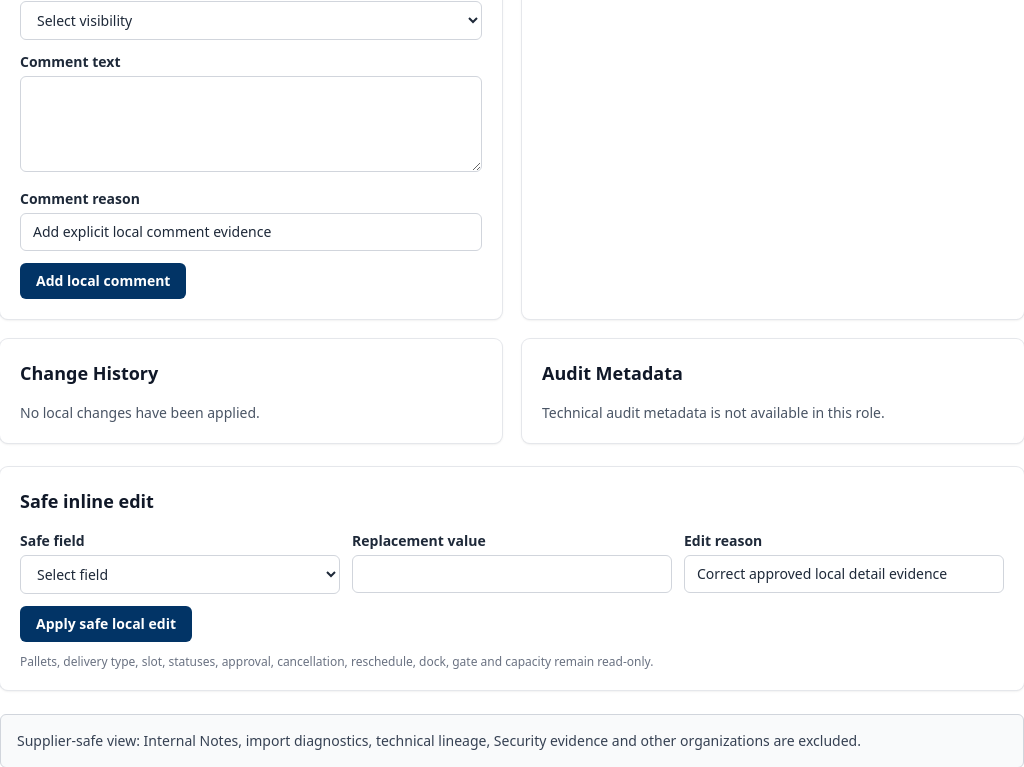
Test: AppointmentDetailsPage › allows Supplier-safe vehicle correction on its own non-weekly record
(page scrolled)
Select "Tractor registration" in the dropdown labelled "Safe field". click: point(180, 574)
box: [20,555,340,594]
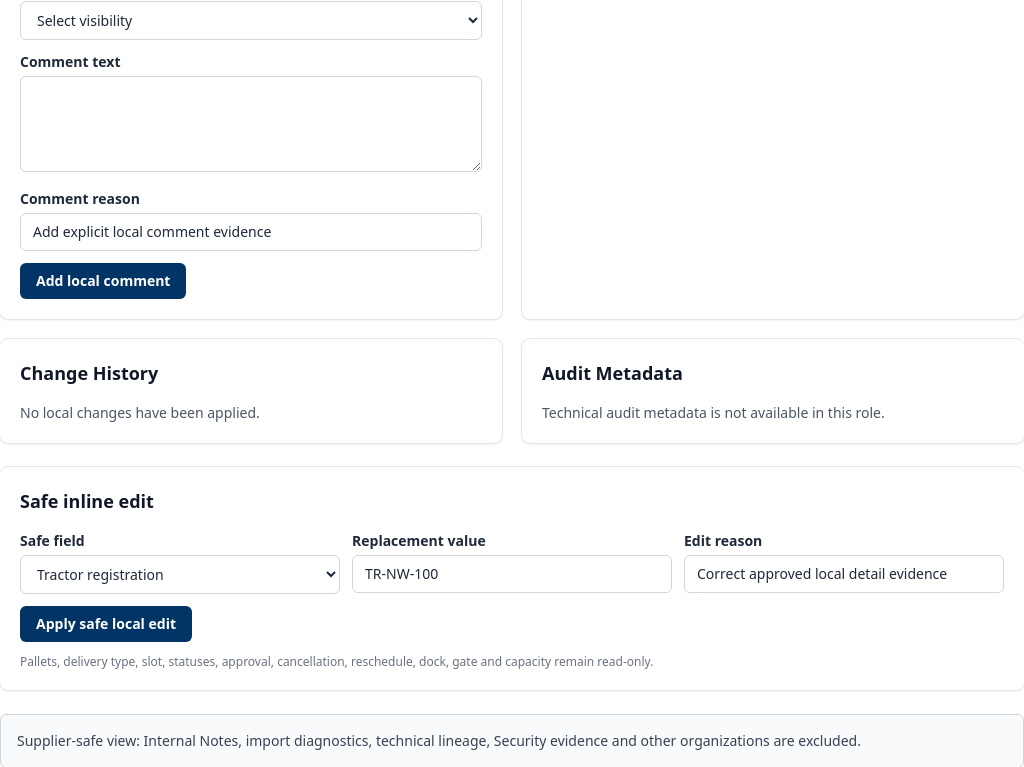
Now the field labelled "Replacement value" holds "TR-NW-100"
Replace the text in the field labelled "Replacement value" with "TR-NW-101". click: point(512, 574)
box: [352,555,672,593]
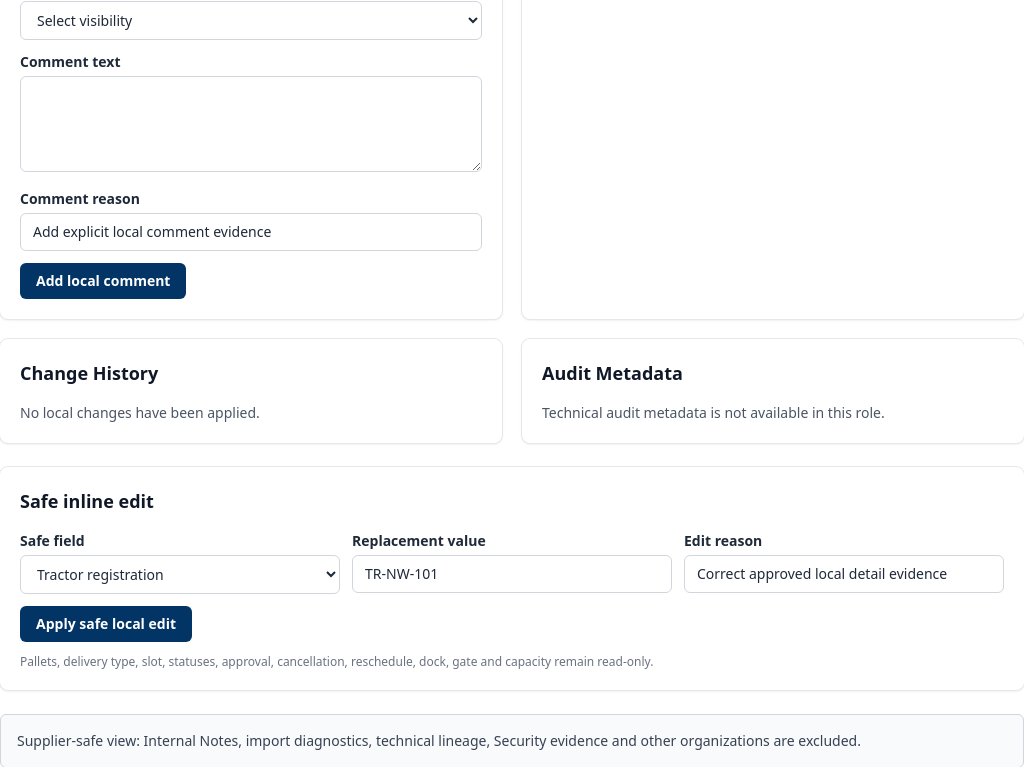
Click the button "Apply safe local edit". click: point(106, 624)
box: [20,606,192,642]
(page scrolled)
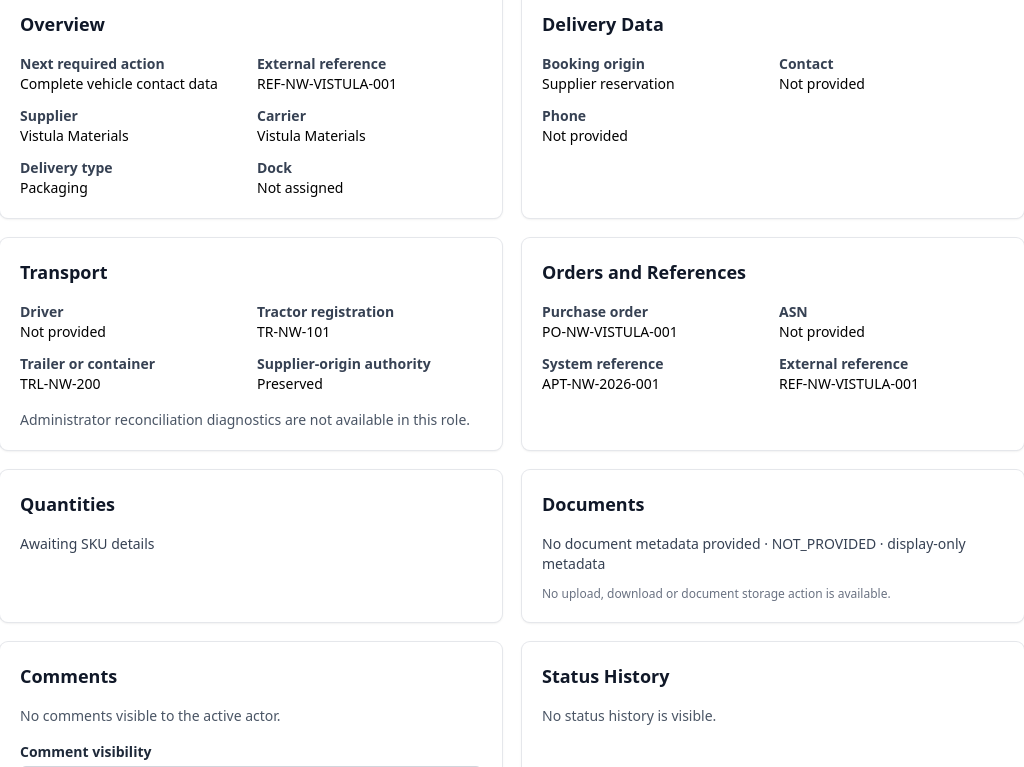
Expected: the text "TRL-NW-200" is shown, [20,374,100,393]
Now the text "TR-NW-101" is shown, box [257,322,330,341]
